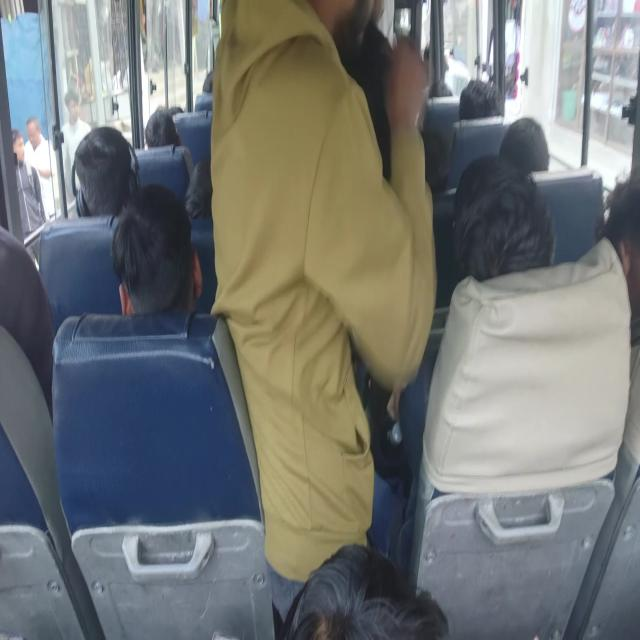person: (238, 9, 441, 368), (274, 547, 472, 640), (126, 201, 188, 321), (458, 192, 538, 272), (0, 233, 41, 388), (72, 128, 136, 218), (592, 199, 637, 271), (509, 116, 559, 165), (463, 66, 506, 105), (148, 115, 178, 162), (200, 75, 222, 104)
